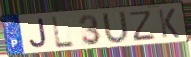3: (78, 13, 103, 46)
J: (28, 17, 48, 50)
K: (157, 8, 181, 39)
L: (51, 15, 77, 50)
U: (101, 11, 131, 45)
Z: (129, 9, 156, 43)
